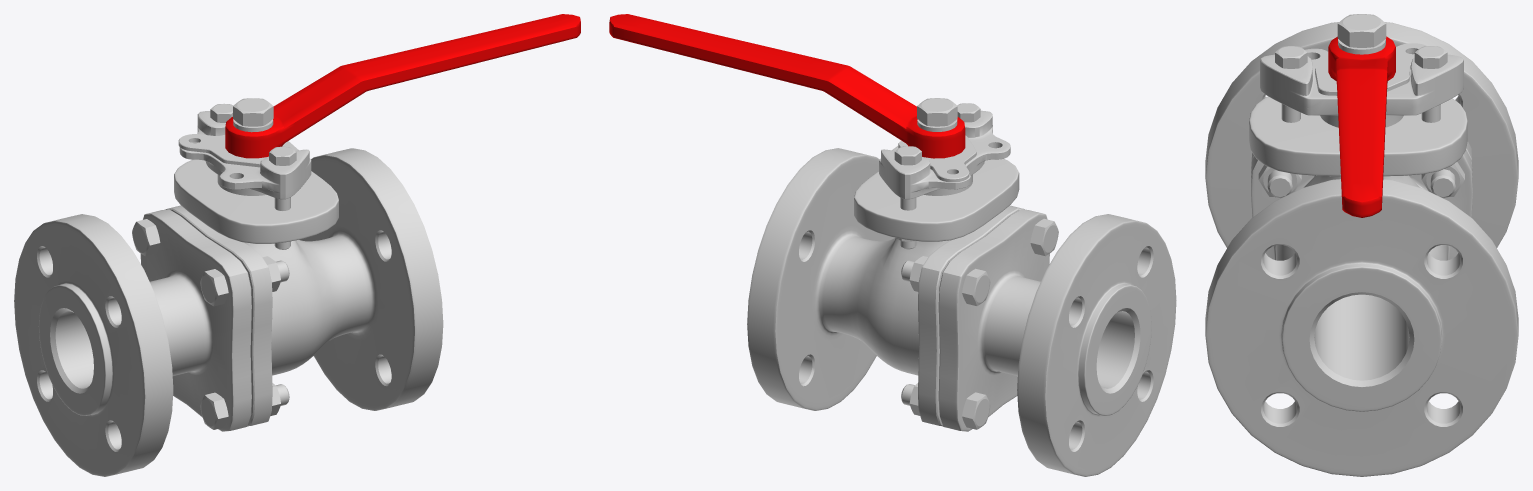
Rendered from valve_dn.glb.
3 renders of one model, left to right at view 1: azimuth 30°, elevation 25°; view 2: azimuth 150°, elevation 25°; view 3: azimuth 270°, elevation 25°, orthographic. The views are drawn at different scales.
Parts seen in each view (by area): view 1: Cylinder002, Cylinder003, Cylinder006, Cylinder005, object 13, SShape001, object 6, object 11, object 14, object 12; view 2: Cylinder002, Cylinder003, Cylinder006, Cylinder005, object 14, object 11, object 7, SShape001, object 13, object 1; view 3: Cylinder003, Cylinder002, Cylinder006, Cylinder005, object 11, SShape001, object 14, object 13, object 12, object 1.
Boxes of the visible parts, bbox=[...] form: Cylinder002: bbox=[14, 209, 251, 476]; Cylinder003: bbox=[165, 148, 443, 426]; Cylinder006: bbox=[225, 14, 580, 158]; Cylinder005: bbox=[179, 111, 311, 199]; object 13: bbox=[200, 256, 289, 306]; SShape001: bbox=[178, 134, 298, 167]; object 6: bbox=[200, 383, 289, 429]; object 11: bbox=[233, 98, 273, 132]; object 14: bbox=[132, 219, 160, 256]; object 12: bbox=[269, 146, 296, 249]; Cylinder002: bbox=[938, 209, 1176, 476]; Cylinder003: bbox=[747, 148, 1024, 426]; Cylinder006: bbox=[609, 14, 965, 158]; Cylinder005: bbox=[879, 110, 1010, 199]; object 14: bbox=[901, 256, 990, 305]; object 11: bbox=[917, 98, 957, 131]; object 7: bbox=[901, 383, 990, 429]; SShape001: bbox=[898, 135, 976, 182]; object 13: bbox=[1030, 218, 1058, 256]; object 1: bbox=[894, 146, 921, 249]; Cylinder003: bbox=[1205, 96, 1518, 476]; Cylinder002: bbox=[1205, 22, 1518, 247]; Cylinder006: bbox=[1328, 36, 1395, 217]; Cylinder005: bbox=[1260, 48, 1463, 127]; object 11: bbox=[1337, 14, 1386, 54]; SShape001: bbox=[1315, 43, 1426, 95]; object 14: bbox=[1421, 162, 1464, 198]; object 13: bbox=[1258, 165, 1301, 198]; object 12: bbox=[1275, 46, 1307, 122]; object 1: bbox=[1414, 46, 1447, 122].
Size of the model in its own units: 0.2872 by 0.1779 by 0.1287.
